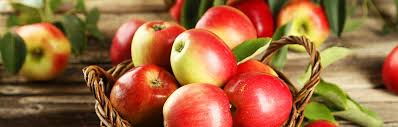apple: (172, 29, 239, 89), (109, 63, 177, 122), (226, 73, 296, 127), (161, 81, 234, 127), (197, 5, 264, 52), (16, 25, 71, 81), (134, 22, 187, 67), (281, 4, 335, 44)
